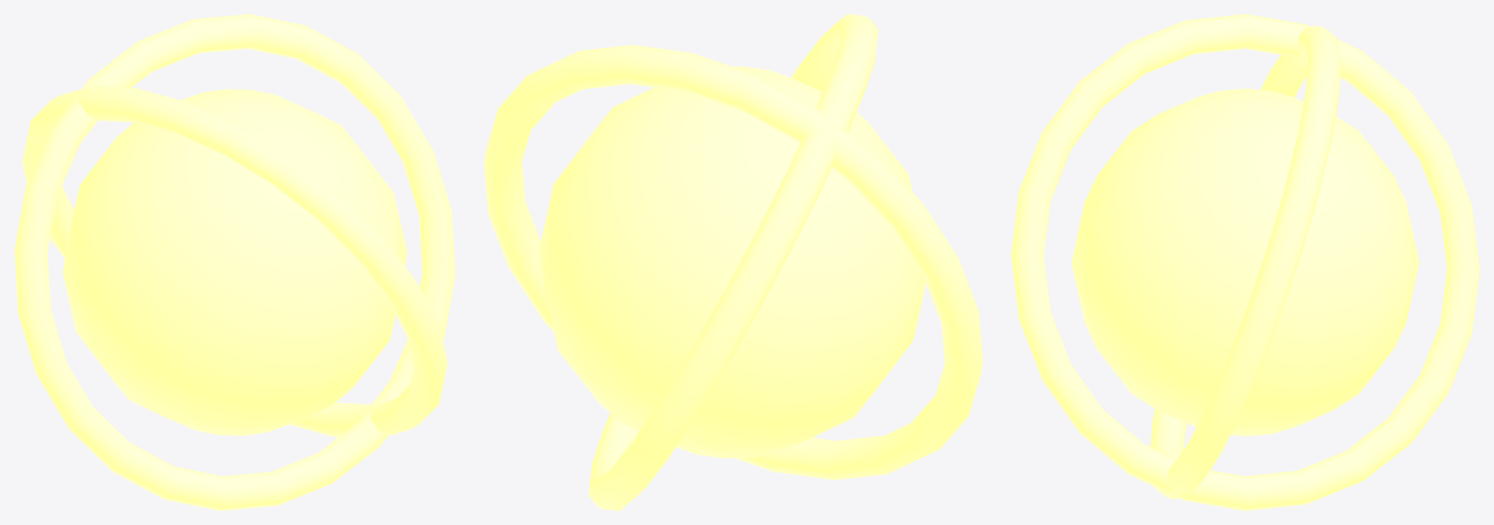
File: Plasma.fbx
The picture shows the model from 3 angles, left to right: view 1: azimuth 30°, elevation 25°; view 2: azimuth 150°, elevation 25°; view 3: azimuth 270°, elevation 25°; orthographic projection. The views are drawn at different scales.
Visible parts, largest first — view 1: Emit_Orb0, Emit_Ring0, Emit_Ring1; view 2: Emit_Orb0, Emit_Ring0, Emit_Ring1; view 3: Emit_Orb0, Emit_Ring1, Emit_Ring0.
Part boxes in pixels (box(x1,y1,x2,y2)): Emit_Orb0: box(63, 89, 406, 435); Emit_Ring0: box(14, 14, 455, 510); Emit_Ring1: box(22, 85, 447, 437); Emit_Orb0: box(538, 66, 925, 458); Emit_Ring0: box(484, 45, 982, 479); Emit_Ring1: box(588, 14, 878, 510); Emit_Orb0: box(1071, 88, 1419, 436); Emit_Ring1: box(1011, 14, 1479, 510); Emit_Ring0: box(1150, 26, 1341, 498).
Bounding box in the file's own units: 0.344 × 0.3233 × 0.3233.
